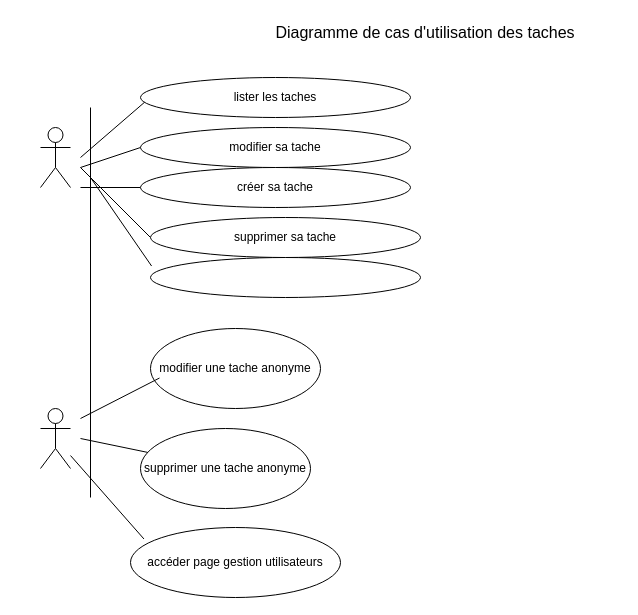
Some shapes in this 638 by 615 pixel diagram are drawn without their labels. Here are the shapes that lost their labels. From the top down, the centre of each, then its label:
pixel 55 157: visiteur inscrit (role_user)
pixel 285 277: marquer une tache
pixel 55 438: visiteur inscrit (role_admin)
